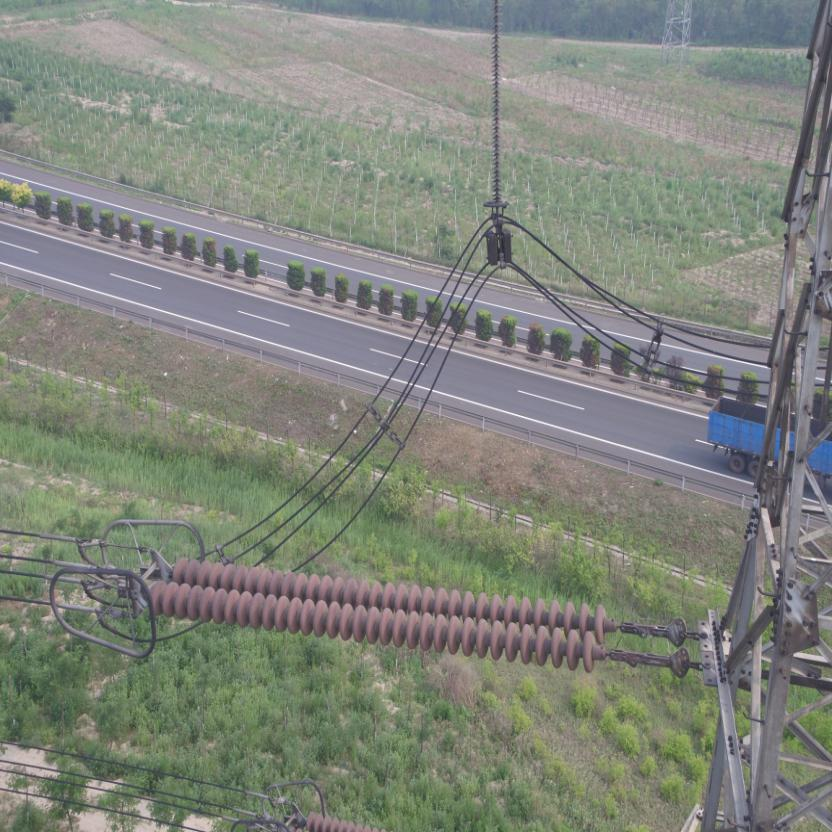insulator: (138, 552, 651, 674)
